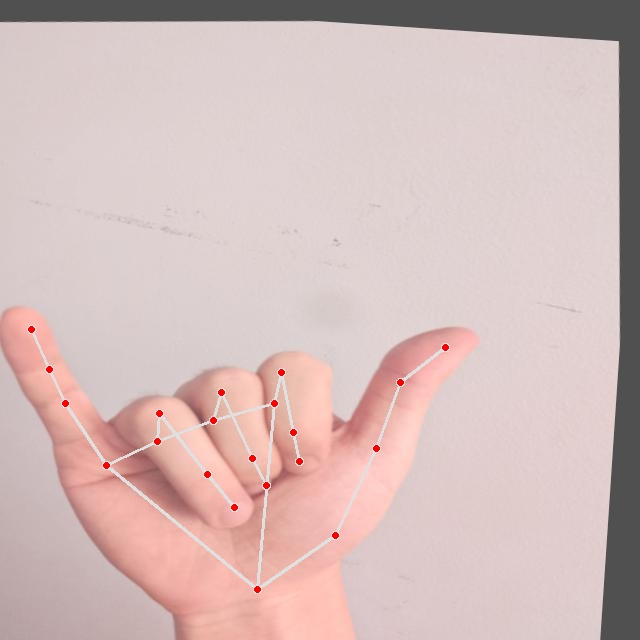Y: (0, 263, 513, 639)
